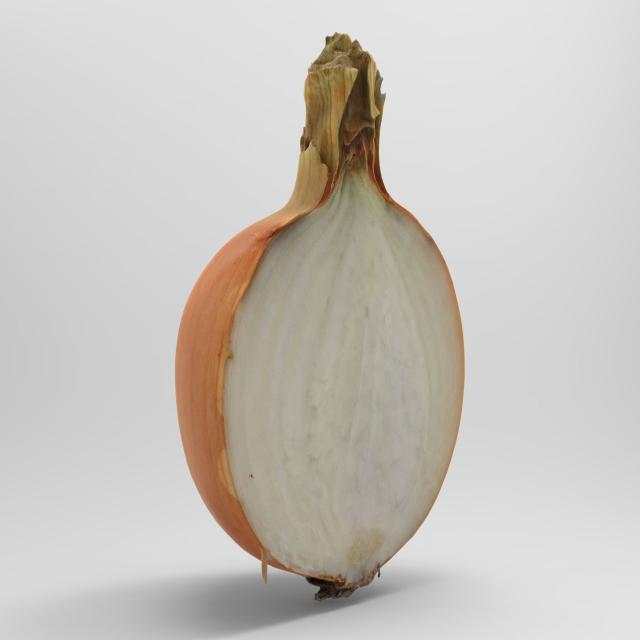half onion: (173, 27, 468, 599)
